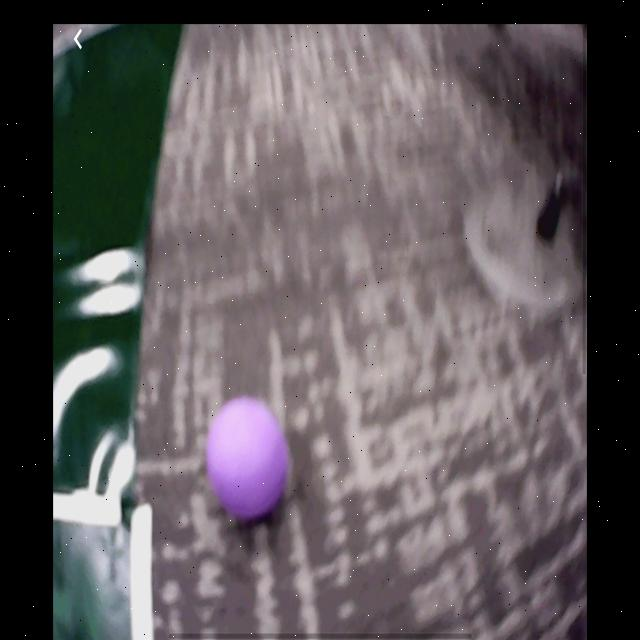ball: (208, 398, 284, 524)
